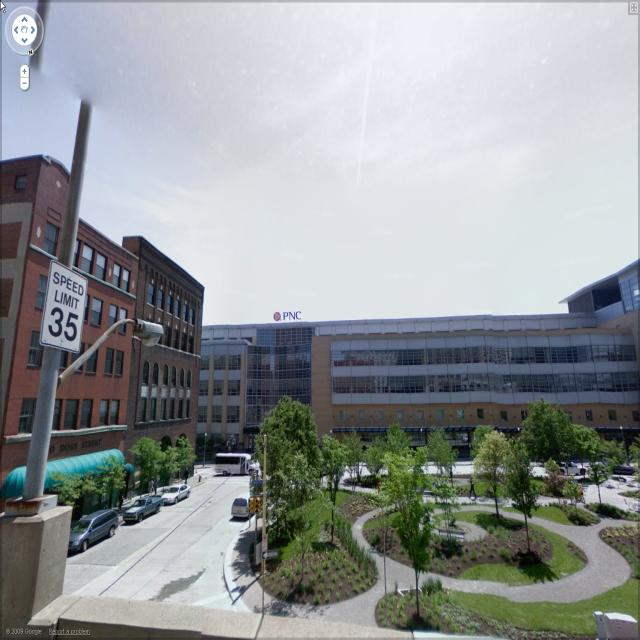b_1: (193, 264, 640, 467), (1, 162, 123, 476), (128, 239, 208, 480)
